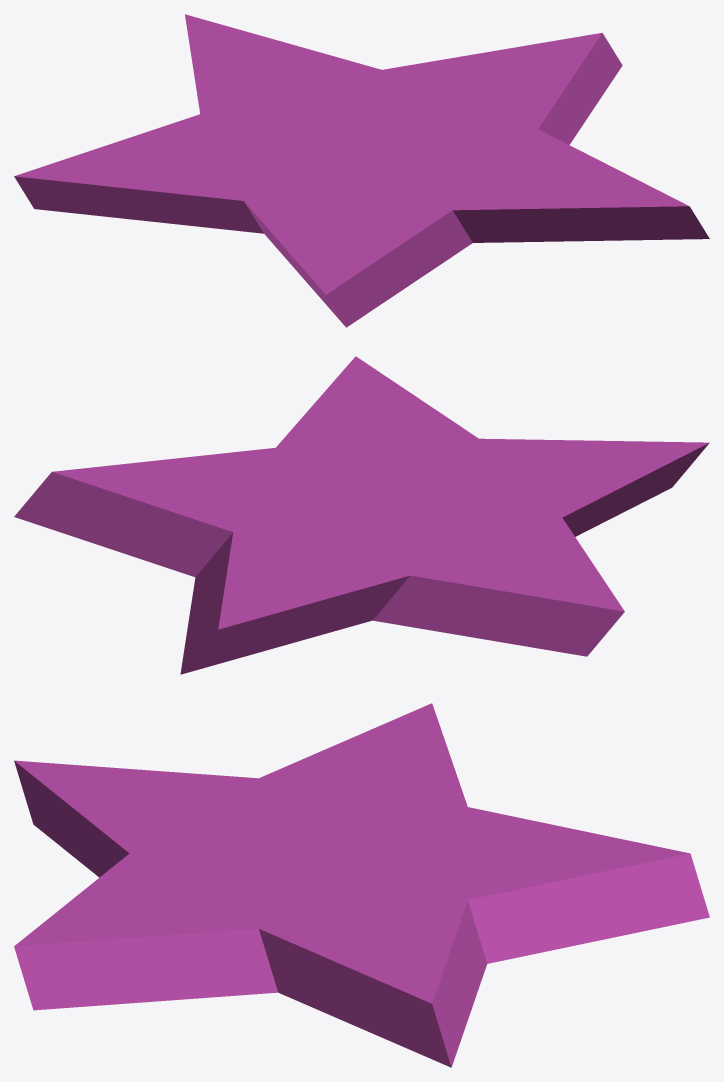
The model's file is Chambre_enfant_souvenir_etoile.fbx.
The picture shows the model from 3 angles, top to bottom: view 1: azimuth 30°, elevation 25°; view 2: azimuth 150°, elevation 25°; view 3: azimuth 270°, elevation 25°; orthographic projection. The views are drawn at different scales.
Parts seen in each view (by area): view 1: etoile.005; view 2: etoile.005; view 3: etoile.005.
Part boxes in pixels (<box>): etoile.005: <box>14,14,709,327</box>; etoile.005: <box>14,356,709,674</box>; etoile.005: <box>14,703,709,1067</box>.
Bounding box in the file's own units: 135 × 9.76 × 126.
